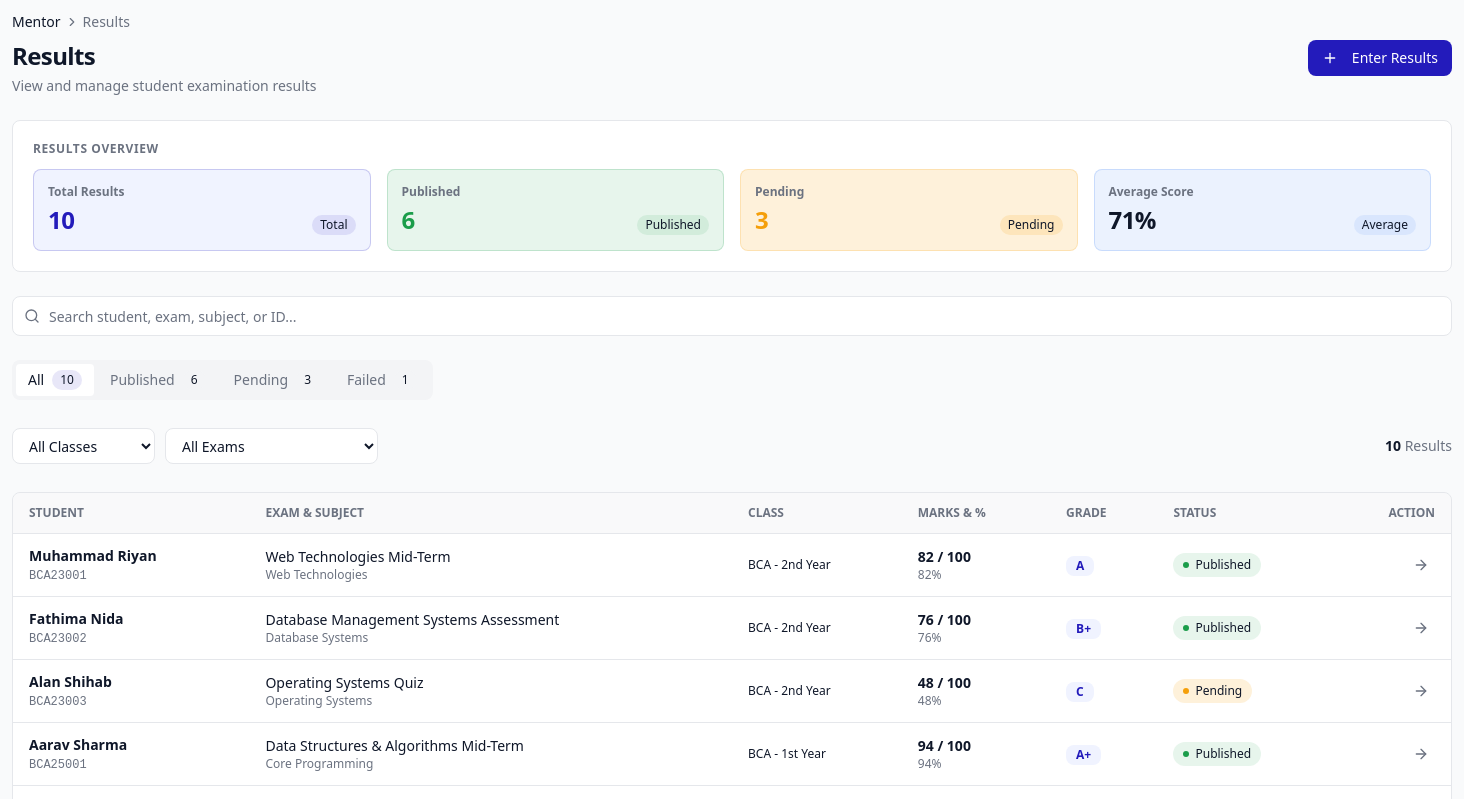
Mentor Results Page › filters results by class dropdown selection
This screenshot has width=1464, height=799.
Select "Final Year" in the 1st dropdown at x=84, y=446, box [12,428,155,464]
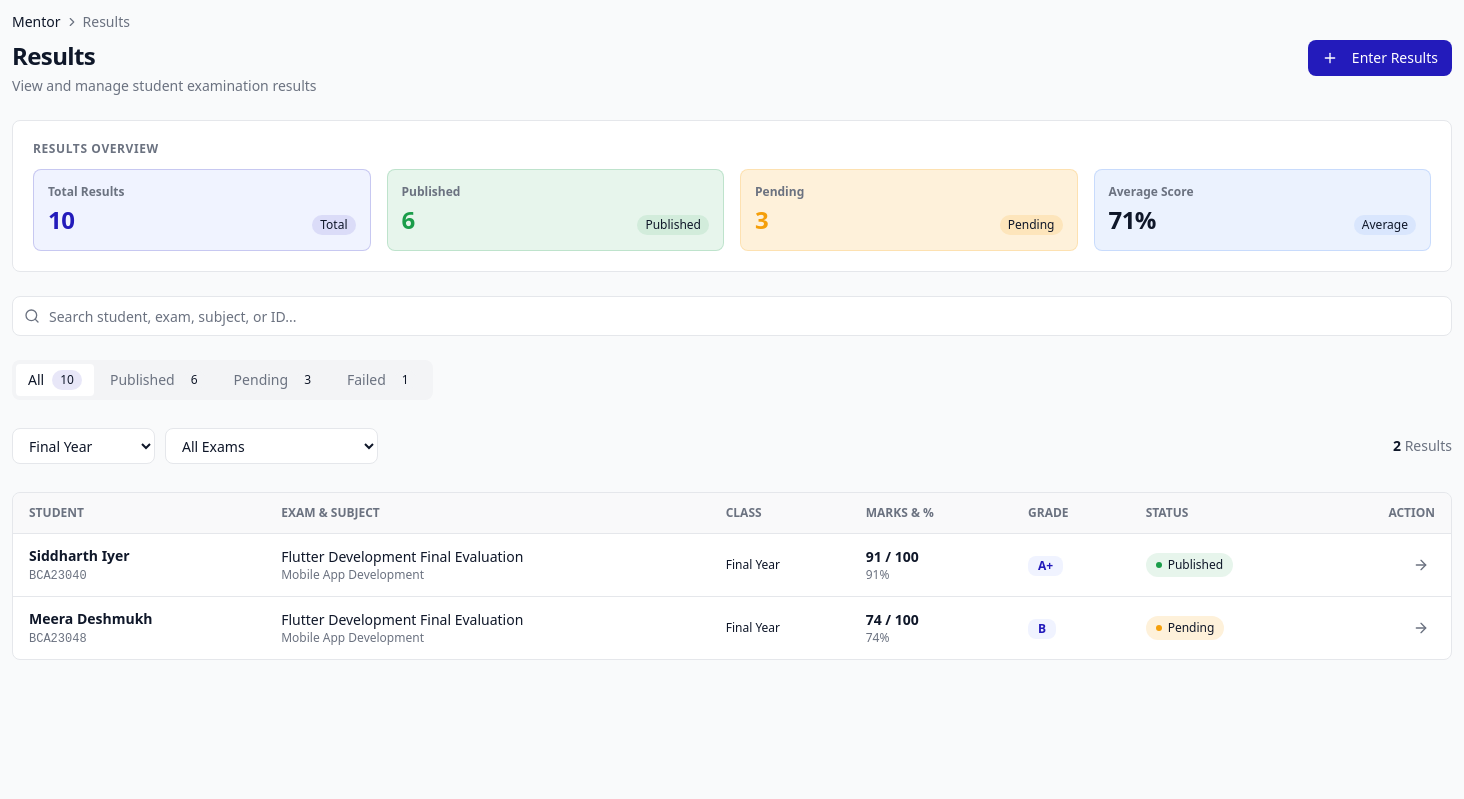
Check: the text "Siddharth Iyer" is shown, box [29,546,130,565]
Check: the text "Muhammad Riyan" is gone
